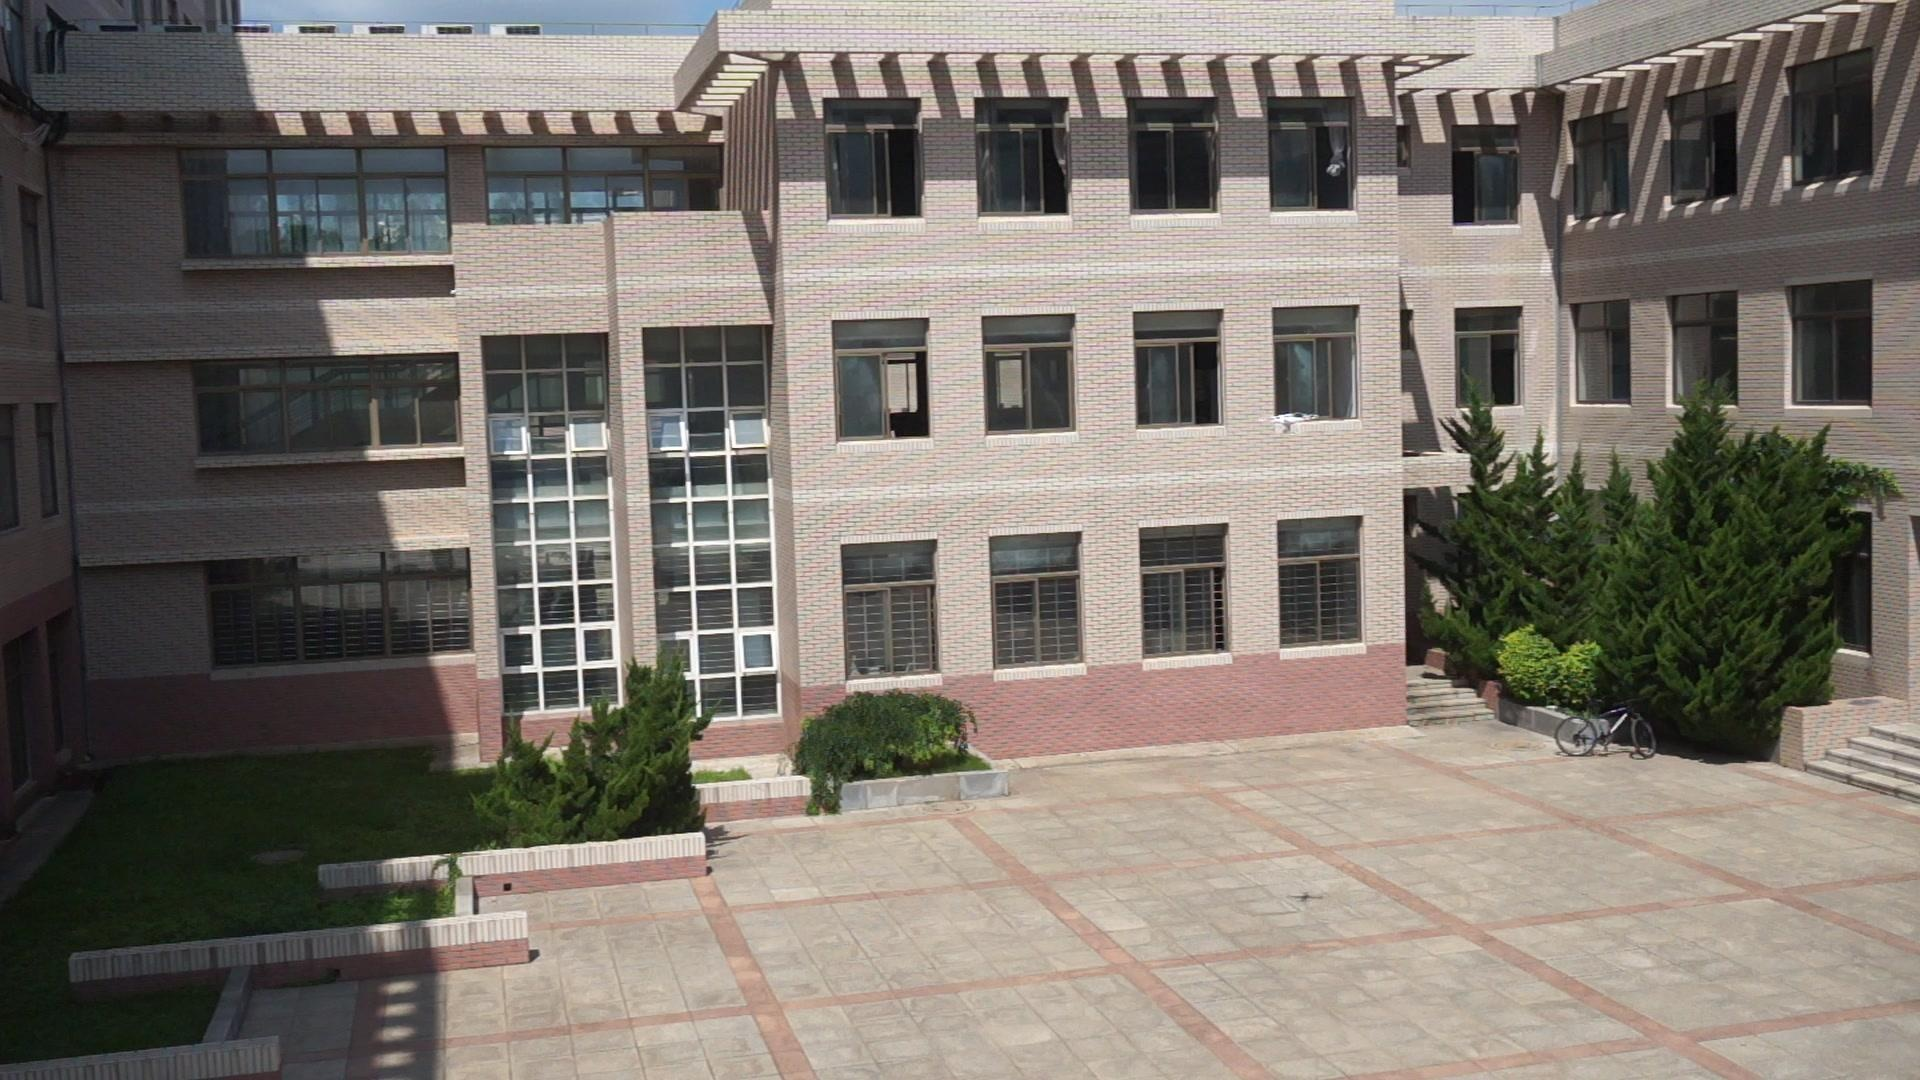UAV: (1259, 413, 1320, 435)
